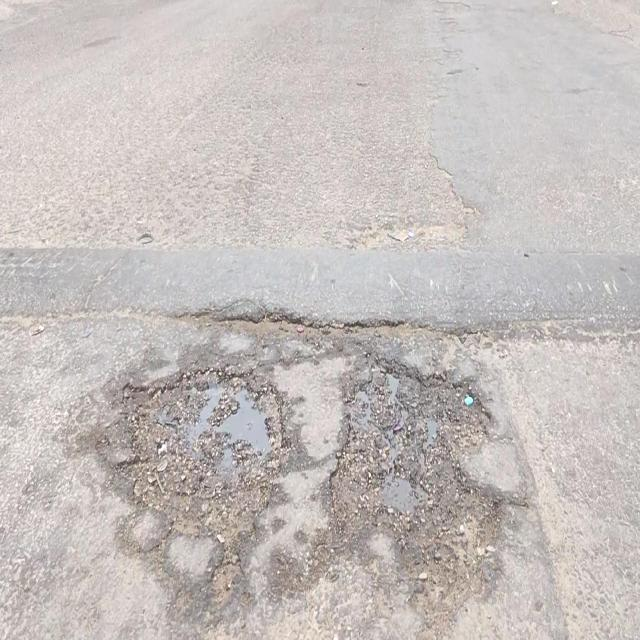Potholes: (327, 339, 509, 618), (111, 360, 290, 551)
